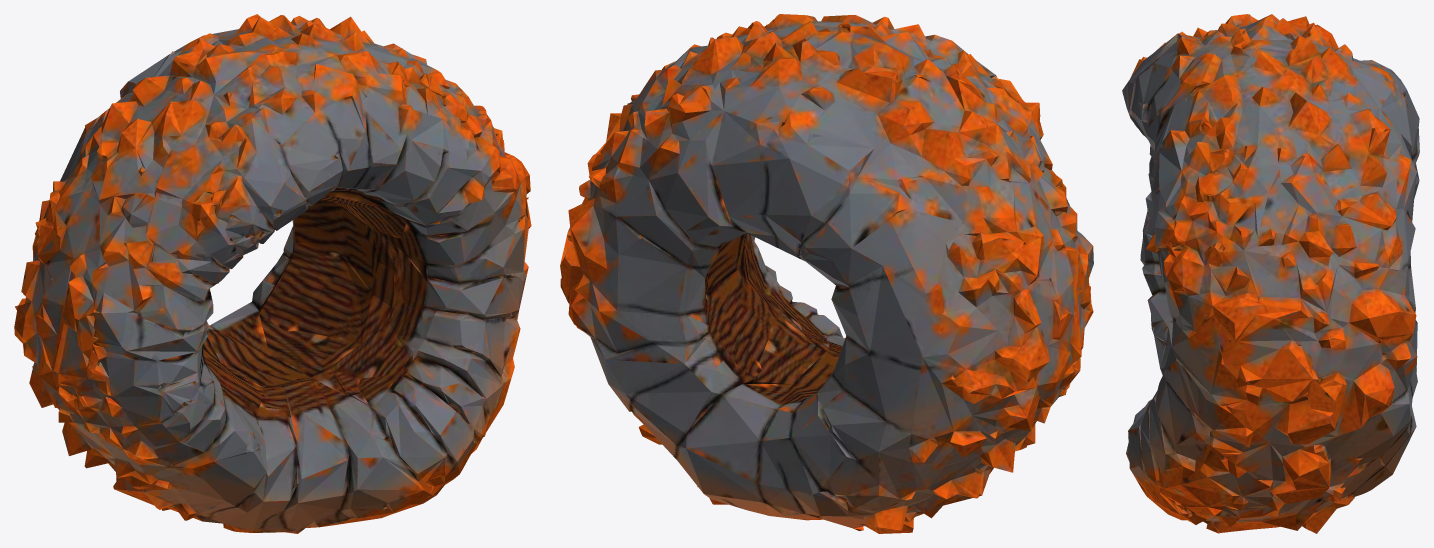
The model's file is volcanic_vent_01.glb.
The picture shows the model from 3 angles, left to right: view 1: azimuth 30°, elevation 25°; view 2: azimuth 150°, elevation 25°; view 3: azimuth 270°, elevation 25°; orthographic projection. The views are drawn at different scales.
Parts seen in each view (by area): view 1: geometry_0; view 2: geometry_0; view 3: geometry_0.
Boxes of the visible parts, <box> form: geometry_0: <box>14,14,531,533</box>; geometry_0: <box>560,14,1093,533</box>; geometry_0: <box>1122,14,1419,533</box>.
Bounding box in the file's own units: 0.9993 × 0.9793 × 0.569.
Materials: 1 (1 with a texture image).
